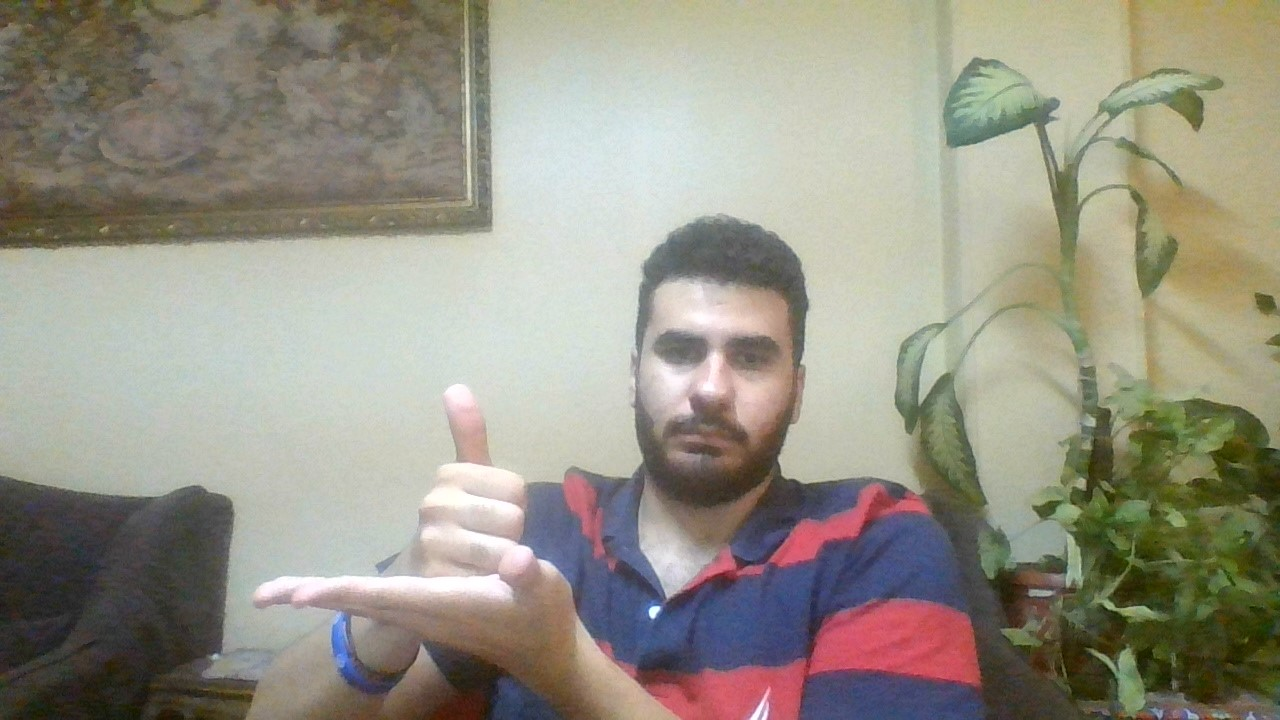help: (254, 366, 587, 667)
